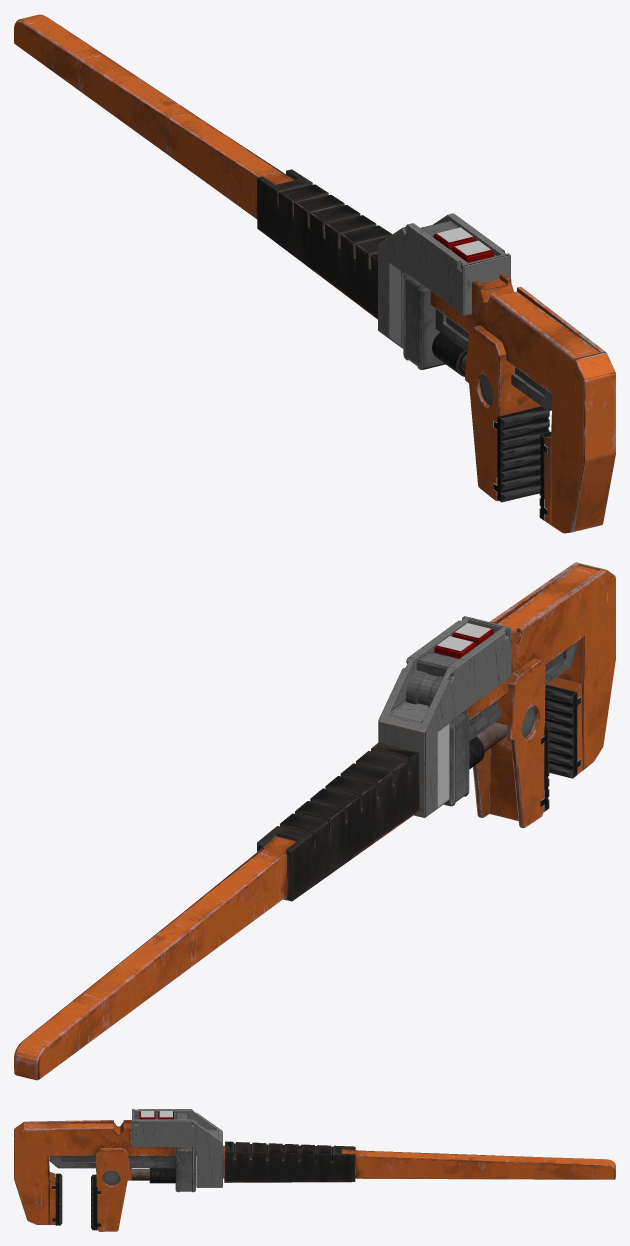
Rendered from TheENDofWrench.fbx.
3 renders of one model, top to bottom at view 1: azimuth 30°, elevation 25°; view 2: azimuth 150°, elevation 25°; view 3: azimuth 270°, elevation 25°, orthographic. The views are drawn at different scales.
Visible parts, largest first — view 1: Plane.001, Plane.004; view 2: Plane.001, Plane.004; view 3: Plane.001.
Boxes of the visible parts, x1,y1,x2,y2 form: Plane.001: (14, 14, 615, 533); Plane.004: (389, 263, 401, 345); Plane.001: (14, 562, 615, 1080); Plane.004: (437, 724, 449, 806); Plane.001: (14, 1109, 615, 1231).
Size of the model in its own units: 4.89 by 19.77 by 96.16.
